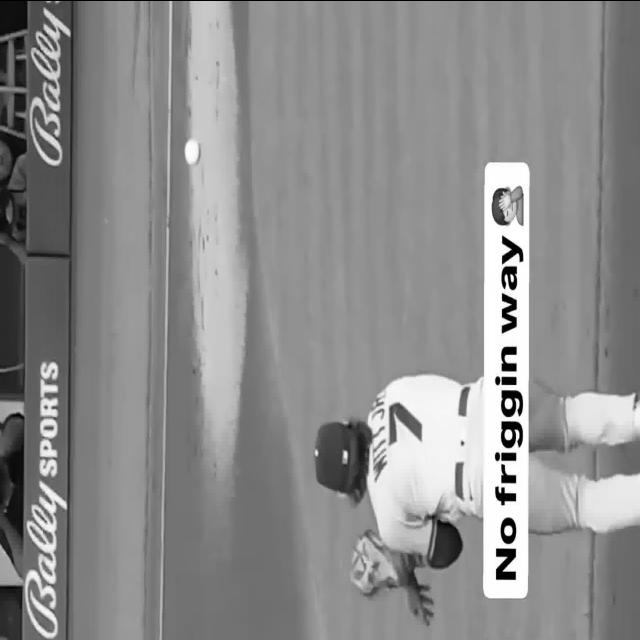baseball: (184, 138, 201, 164)
baseball_glove: (350, 529, 409, 596)
